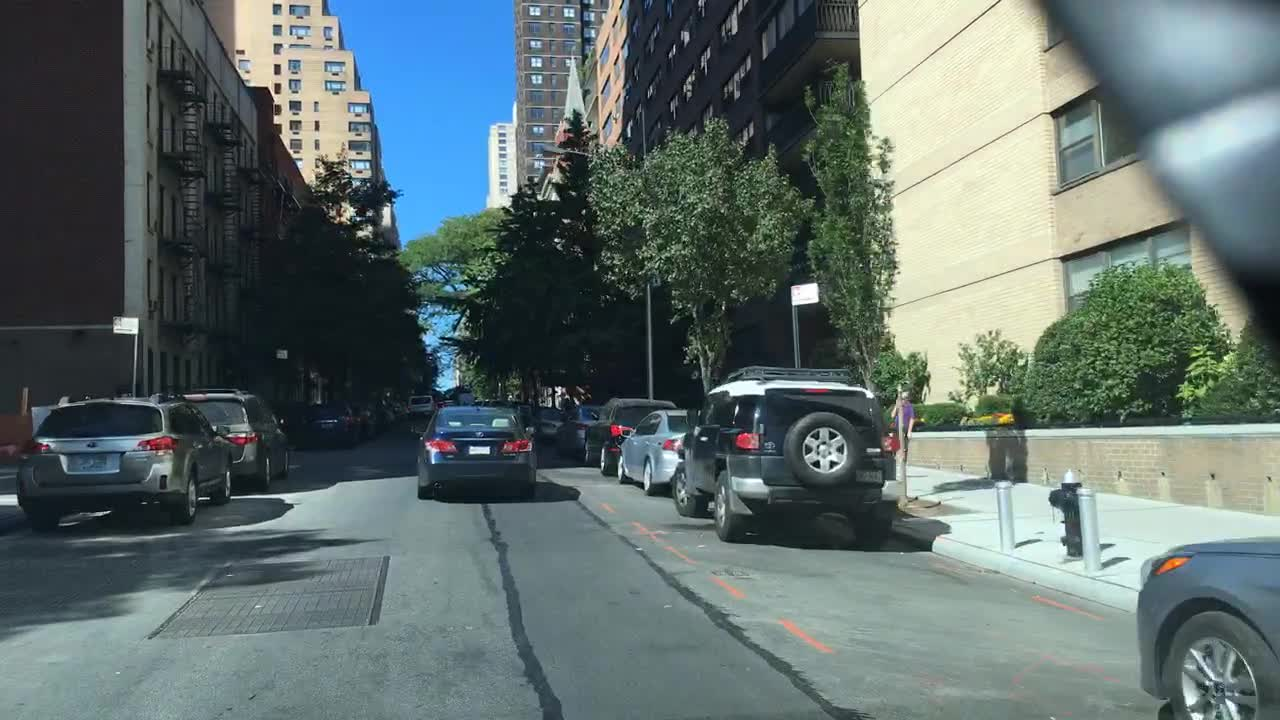car: (670, 362, 897, 550), (16, 395, 243, 530), (1135, 531, 1280, 719), (415, 398, 535, 494), (183, 387, 295, 487), (616, 405, 701, 495), (579, 399, 667, 470), (300, 405, 360, 451), (561, 404, 601, 456), (535, 405, 569, 442), (345, 402, 371, 435), (358, 399, 377, 433), (371, 396, 394, 424), (409, 392, 435, 415), (518, 402, 540, 419), (389, 398, 404, 416)
person: (887, 388, 916, 462)
traffic sign: (790, 283, 819, 307), (113, 316, 136, 335), (275, 347, 288, 359)
